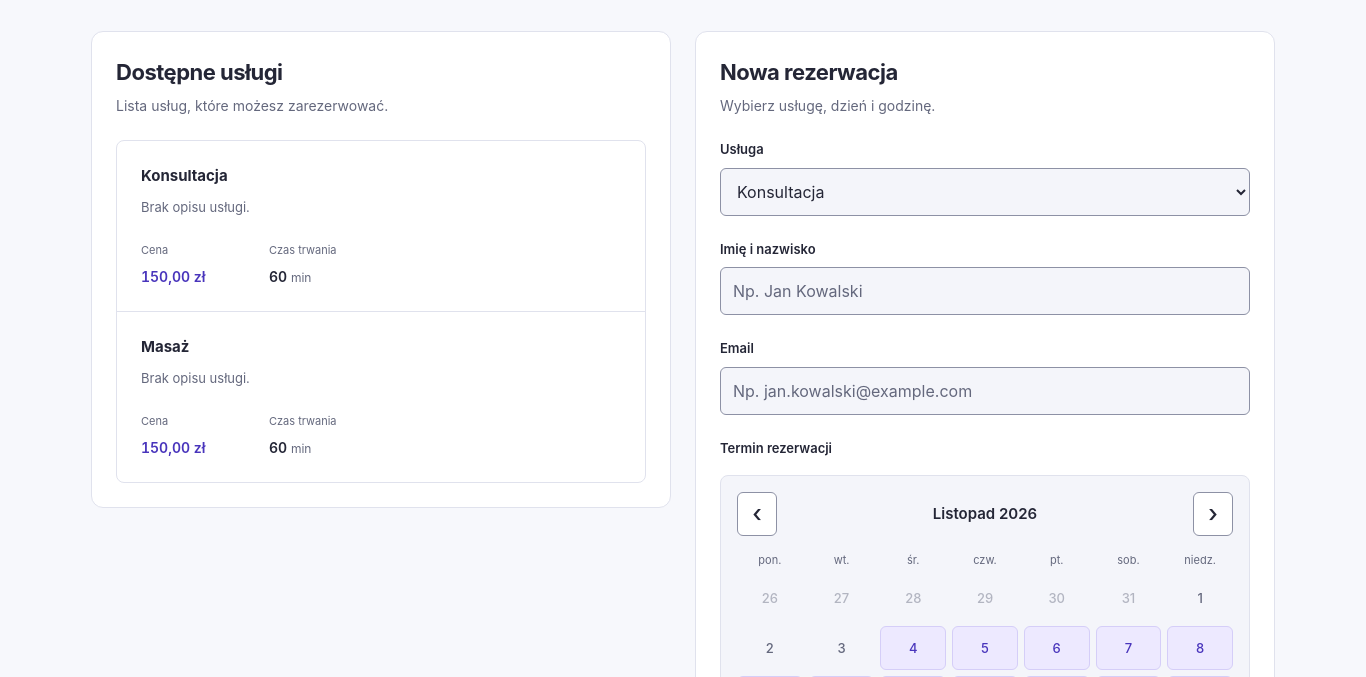
Test: availability failures and stale responses › does not let an old selected-day response overwrite a newer date
The image size is (1366, 677).
Click the button "4" at point(913, 648), box [880,626,946,670]
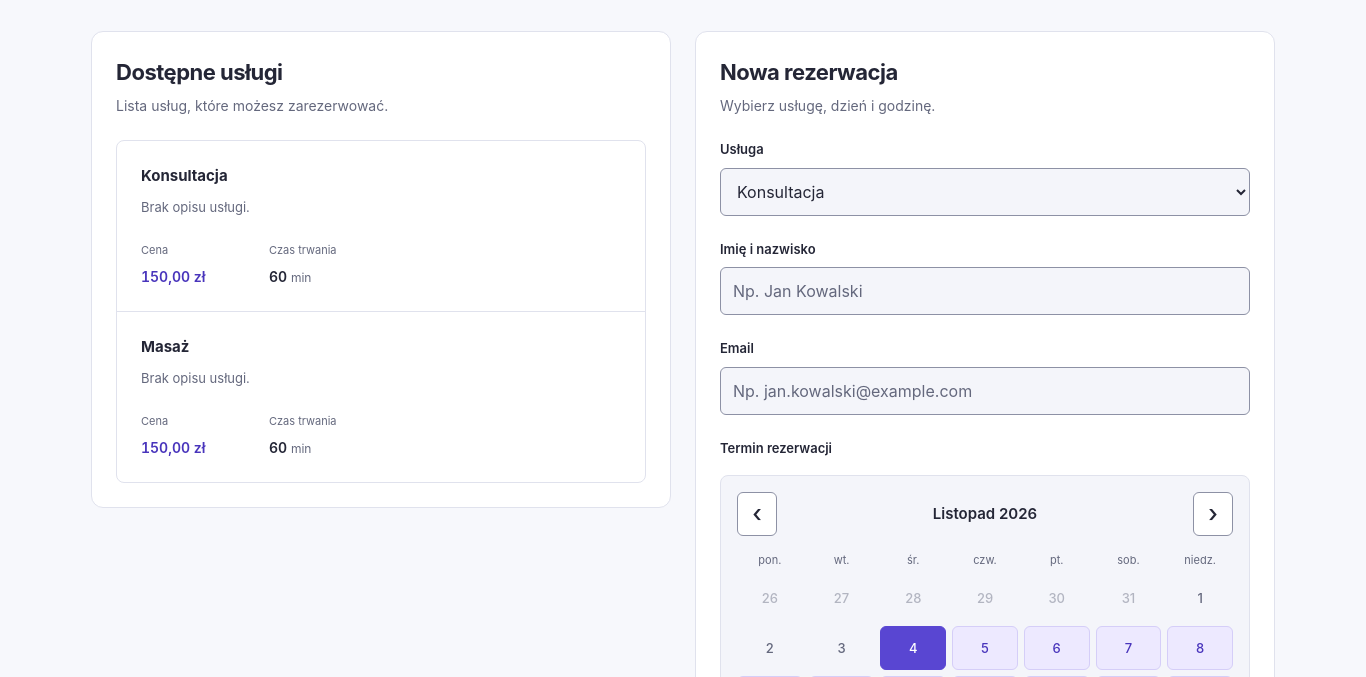
Click the button "5" at point(985, 648), box [952,626,1018,670]
(page scrolled)
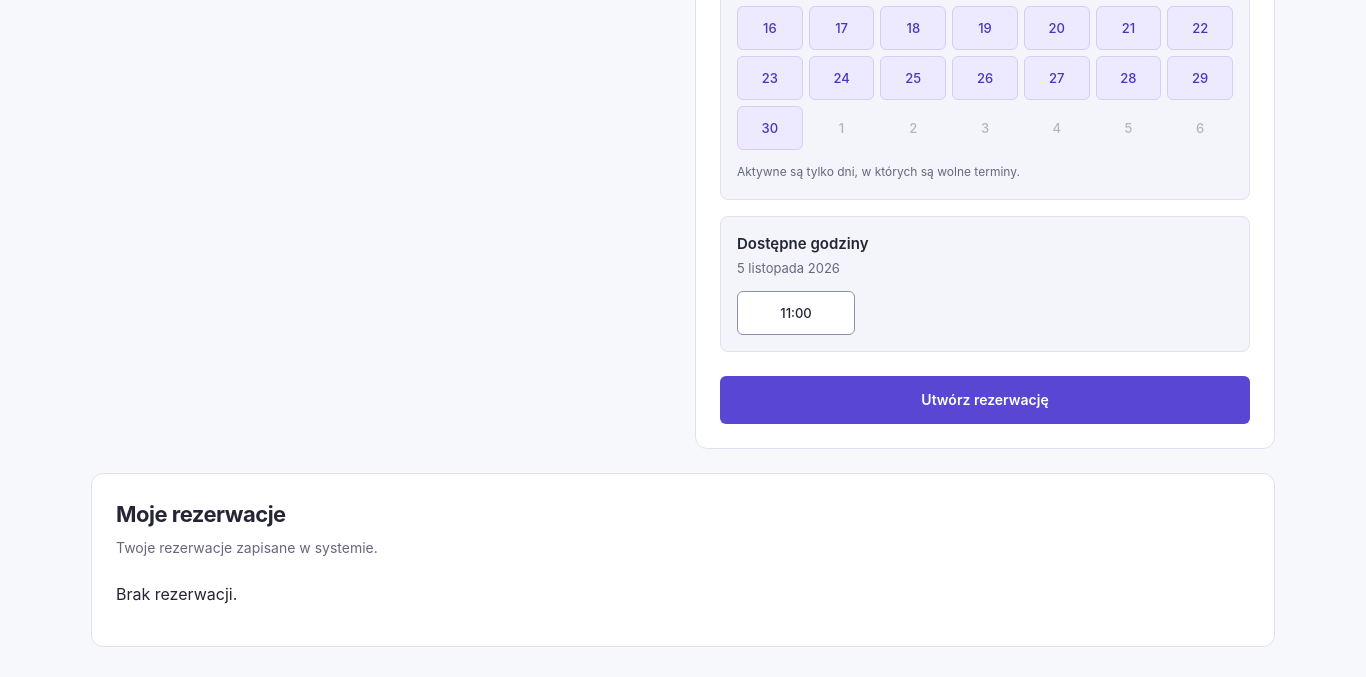
Expected: the button "11:00" is shown, [737,291,855,335]
